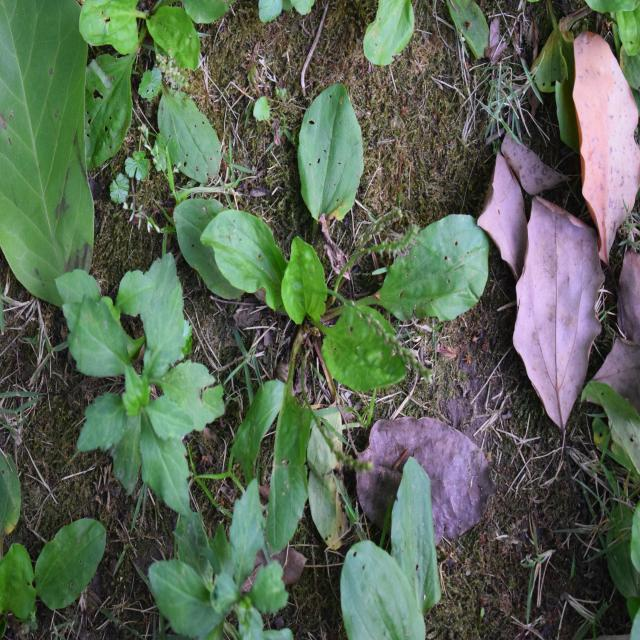plantain: (193, 98, 451, 490)
